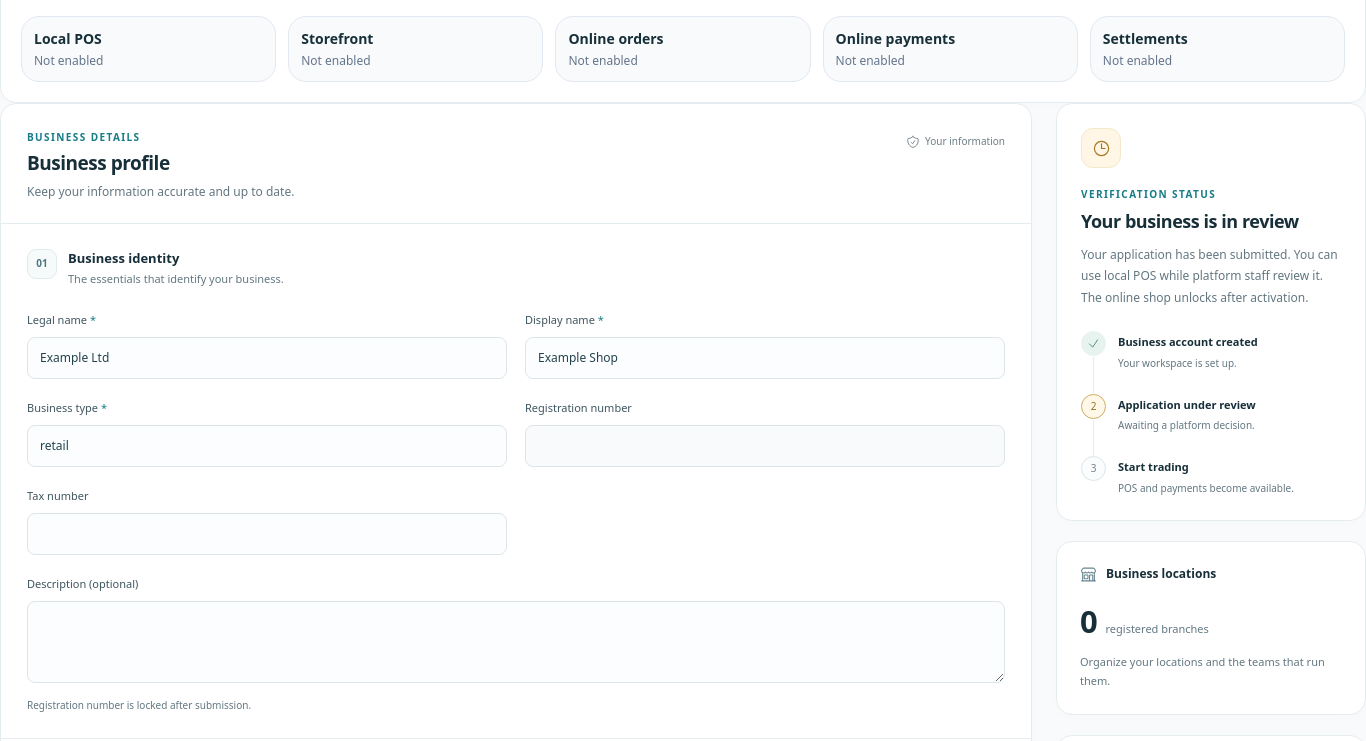
Test case: business screens › groups profile fields and saves edits through the existing API
(page scrolled)
expect the heading "Your business is in review" is shown: met, box [1081, 209, 1299, 233]
expect the field labelled "Registration number" is disabled: met, box [525, 425, 1005, 467]
Step 1. Replace the text in the field labelled "Display name" with "Updated shop" → (765, 358), box [525, 337, 1005, 379]
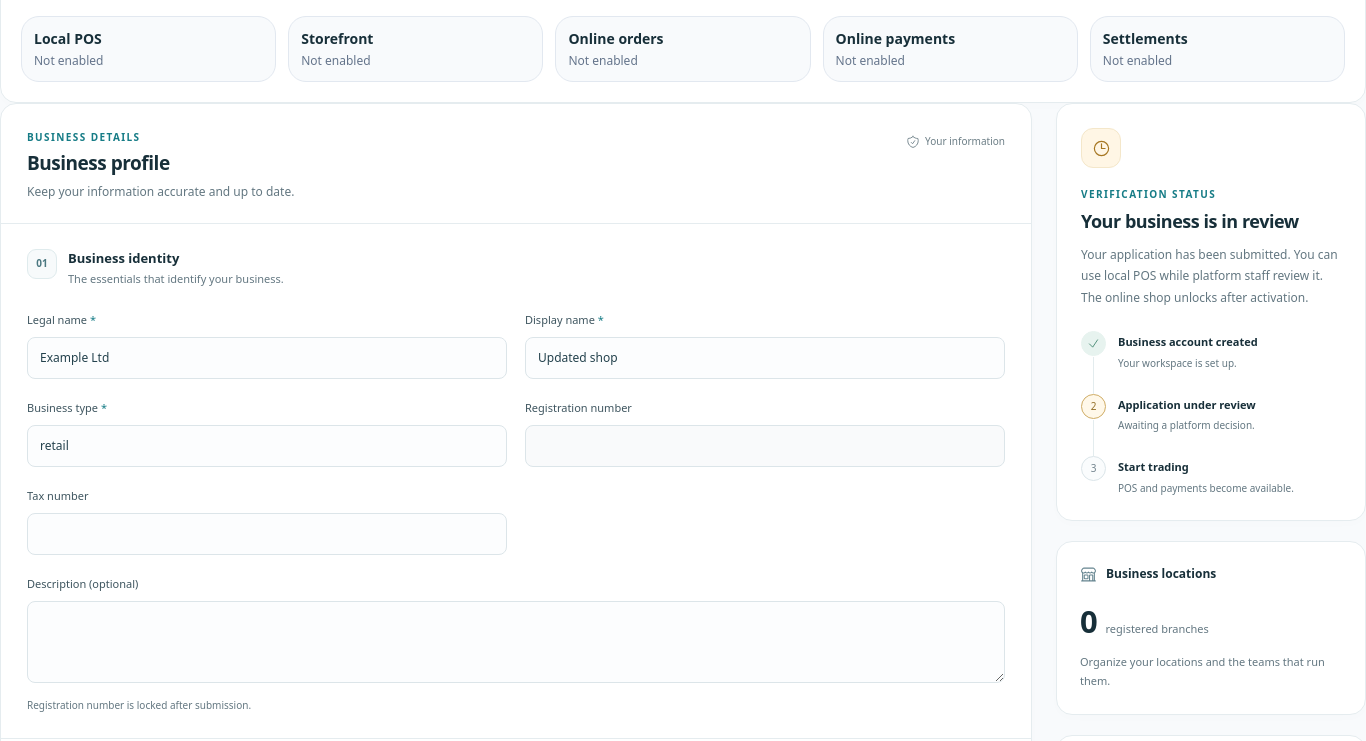
Step 2. Type "A local store." into the text box labelled "Description (optional)" → (516, 642), box [27, 601, 1005, 683]
(page scrolled)
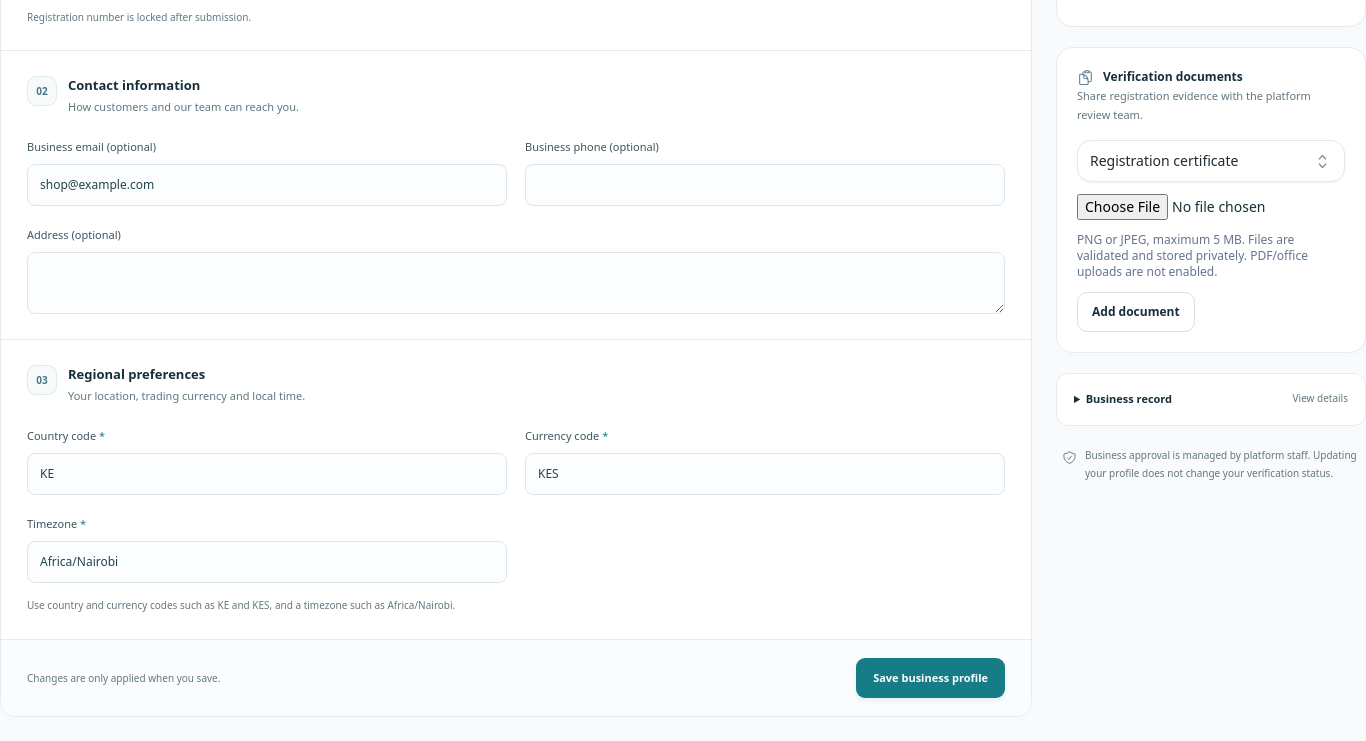
Step 3. Click the button "Save business profile" → (931, 678), box [856, 658, 1005, 698]
(page scrolled)
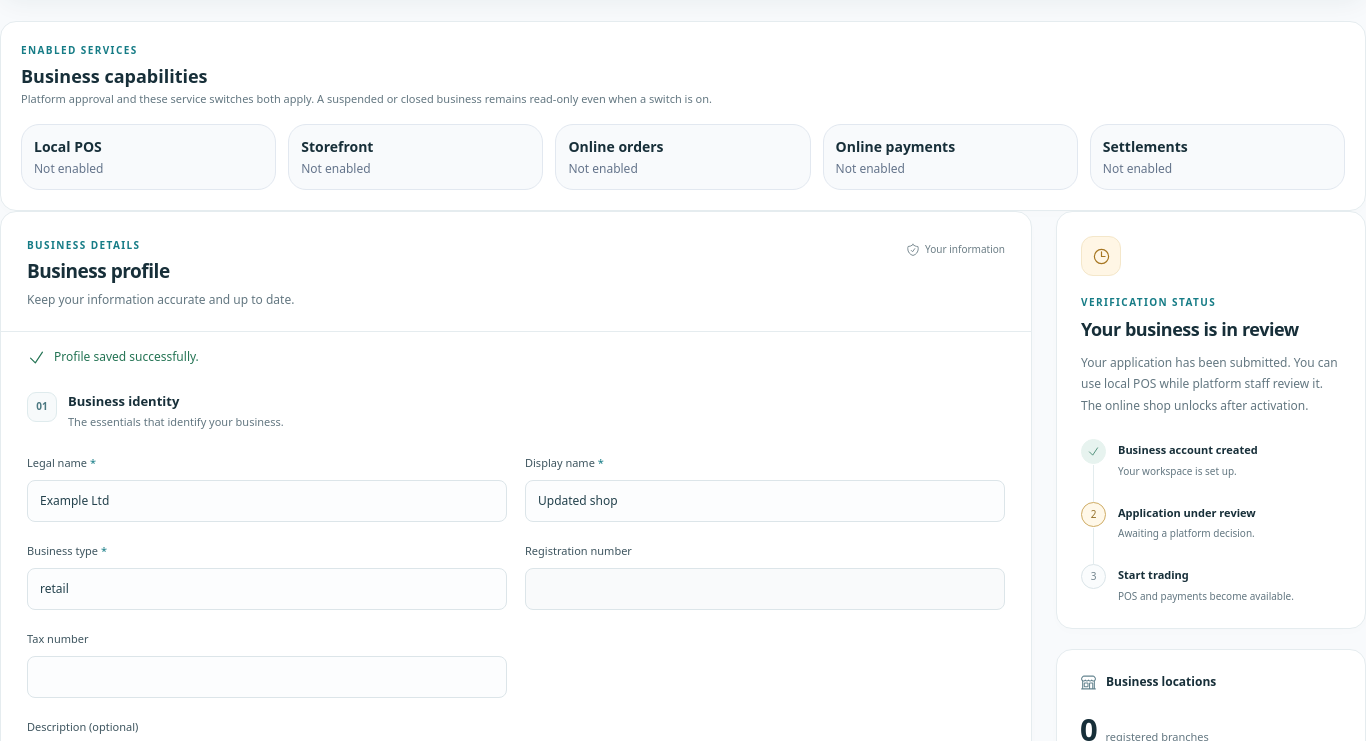
expect the text "Profile saved successfully." is shown: met, box [27, 348, 199, 367]
